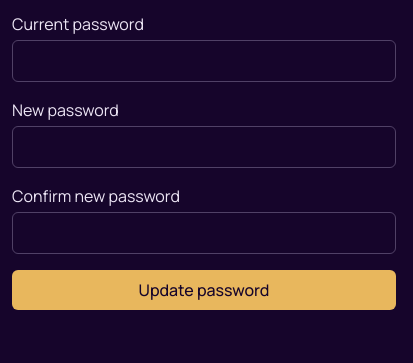
it: an incorrect current password stops before updateUser and shows an error
Type "Sup3r$ecret1" into the password field labelled "Current password" at {"x": 204, "y": 61}, box [12, 40, 396, 82]
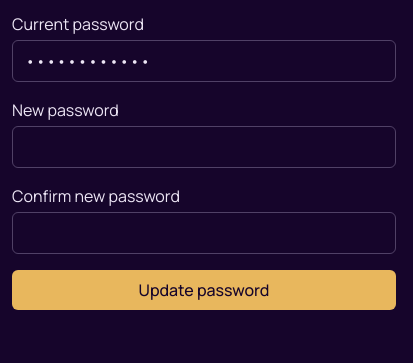
Type "Br4nd$New2" into the password field labelled "New password" at {"x": 204, "y": 147}, box [12, 126, 396, 168]
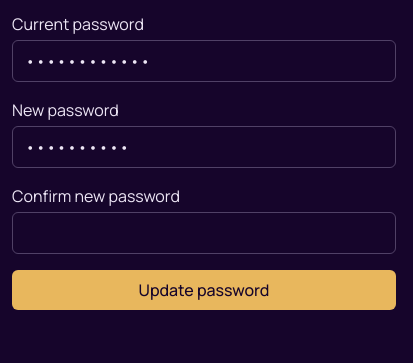
Type "Br4nd$New2" into the password field labelled "Confirm new password" at {"x": 204, "y": 233}, box [12, 212, 396, 254]
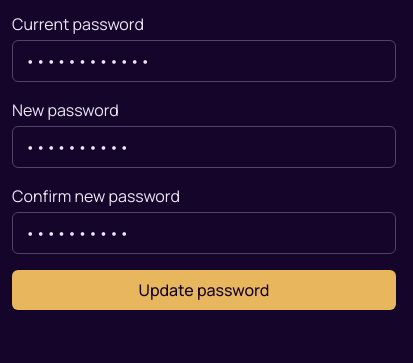
Click the button "Update password" at {"x": 204, "y": 290}, box [12, 270, 396, 310]
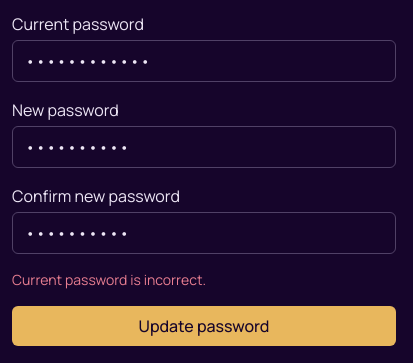
expect the text "Current password is incorrect." is shown: met, box [12, 270, 206, 289]
